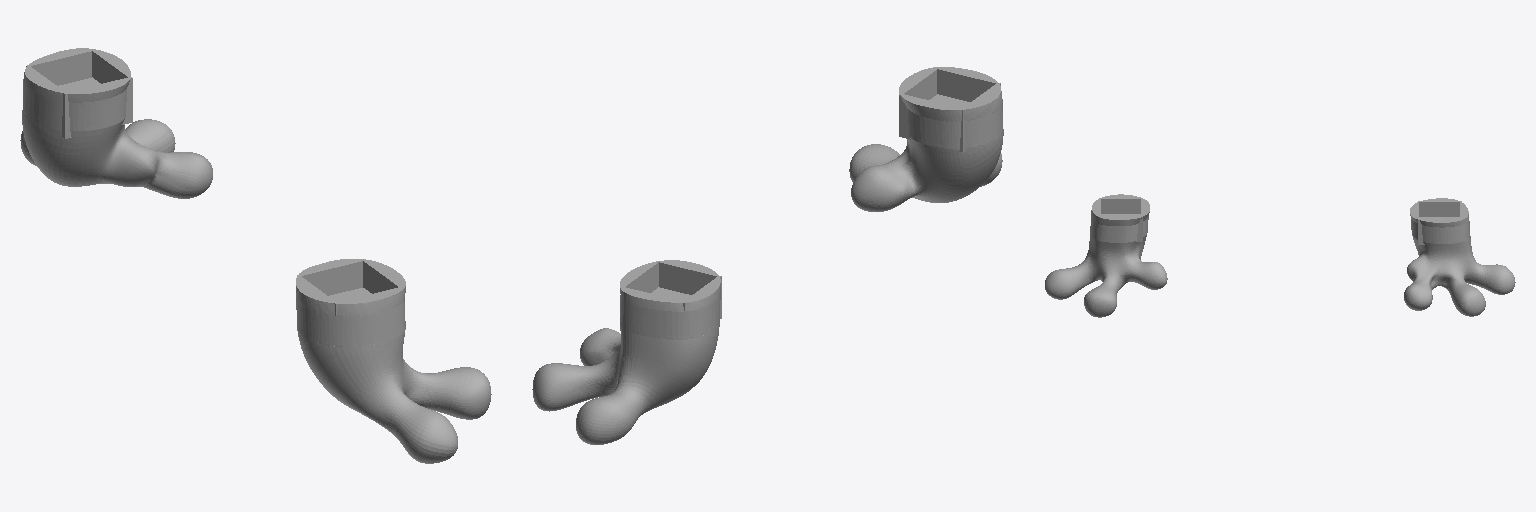
URDF robot description (FrogBot1_top-FrogBot1-x-4_bottom-FrogBot1-x-4):
<?xml version="1.0" ?>
<robot name="FrogBot1_top-FrogBot1-x-4_bottom-FrogBot1-x-4">

<material name="pla_5_percent_infill">
  <color rgba="0.700 0.700 0.700 1.000"/>
</material>

<link name="base_link">
  <inertial>
    <origin xyz="0 0 0" rpy="0 0 0"/>
    <mass value="1.4103143072721238"/>
    <inertia ixx="0.004671865419262023" iyy="0.01102984328633242" izz="0.011972094032648898" ixy="0.00015185420958179873" iyz="8.583160306759328e-05" ixz="-0.0012132770853355082"/>
  </inertial>
  <visual>
    <origin xyz="0 0 0" rpy="0 0 0"/>
    <geometry>
      <mesh filename="simple_meshes/base_link.stl" scale="0.001 0.001 0.001"/>
    </geometry>
    <material name="pla_5_percent_infill"/>
  </visual>
  <collision>
    <origin xyz="0 0 0" rpy="0 0 0"/>
    <geometry>
      <mesh filename="simple_meshes/base_link.stl" scale="0.001 0.001 0.001"/>
    </geometry>
  </collision>
</link>

<link name="body_1_0_1">
  <inertial>
    <origin xyz="-0.045735 -0.109621 -0.00462" rpy="0 0 0"/>
    <mass value="0.03879208926721642"/>
    <inertia ixx="3.793123772816913e-05" iyy="3.979322157933629e-05" izz="1.4336450828997824e-05" ixy="-4.3859643624897995e-07" iyz="2.889189880319427e-06" ixz="5.717862344251724e-07"/>
  </inertial>
  <visual>
    <origin xyz="-0.045735 -0.109621 -0.00462" rpy="0 0 0"/>
    <geometry>
      <mesh filename="simple_meshes/body_1_0_1.stl" scale="0.001 0.001 0.001"/>
    </geometry>
    <material name="pla_5_percent_infill"/>
  </visual>
  <collision>
    <origin xyz="-0.045735 -0.109621 -0.00462" rpy="0 0 0"/>
    <geometry>
      <mesh filename="simple_meshes/body_1_0_1.stl" scale="0.001 0.001 0.001"/>
    </geometry>
  </collision>
</link>

<link name="body_1_1_1">
  <inertial>
    <origin xyz="0.086489 -0.109621 -0.018802" rpy="0 0 0"/>
    <mass value="0.06970153782718615"/>
    <inertia ixx="7.485681053907931e-05" iyy="8.255272871749949e-05" izz="4.113204068544778e-05" ixy="5.961934677416051e-06" iyz="1.285823416582359e-05" ixz="-1.9641305613061995e-05"/>
  </inertial>
  <visual>
    <origin xyz="0.086489 -0.109621 -0.018802" rpy="0 0 0"/>
    <geometry>
      <mesh filename="simple_meshes/body_1_1_1.stl" scale="0.001 0.001 0.001"/>
    </geometry>
    <material name="pla_5_percent_infill"/>
  </visual>
  <collision>
    <origin xyz="0.086489 -0.109621 -0.018802" rpy="0 0 0"/>
    <geometry>
      <mesh filename="simple_meshes/body_1_1_1.stl" scale="0.001 0.001 0.001"/>
    </geometry>
  </collision>
</link>

<link name="body_1_2_1">
  <inertial>
    <origin xyz="-0.040267 0.109621 -0.027764" rpy="0 0 0"/>
    <mass value="0.050469668014060075"/>
    <inertia ixx="7.528927324983235e-05" iyy="7.403062543695226e-05" izz="2.248478083551877e-05" ixy="6.159399996066698e-07" iyz="-1.3278139408470096e-05" ixz="-1.79026243325607e-07"/>
  </inertial>
  <visual>
    <origin xyz="-0.040267 0.109621 -0.027764" rpy="0 0 0"/>
    <geometry>
      <mesh filename="simple_meshes/body_1_2_1.stl" scale="0.001 0.001 0.001"/>
    </geometry>
    <material name="pla_5_percent_infill"/>
  </visual>
  <collision>
    <origin xyz="-0.040267 0.109621 -0.027764" rpy="0 0 0"/>
    <geometry>
      <mesh filename="simple_meshes/body_1_2_1.stl" scale="0.001 0.001 0.001"/>
    </geometry>
  </collision>
</link>

<link name="body_1_3_1">
  <inertial>
    <origin xyz="0.090407 0.109621 -0.022193" rpy="0 0 0"/>
    <mass value="0.07051428562138756"/>
    <inertia ixx="8.234578748951582e-05" iyy="9.212021029979061e-05" izz="4.505565857923716e-05" ixy="-7.343205658714384e-06" iyz="-1.5796759604781198e-05" ixz="-2.375696135519412e-05"/>
  </inertial>
  <visual>
    <origin xyz="0.090407 0.109621 -0.022193" rpy="0 0 0"/>
    <geometry>
      <mesh filename="simple_meshes/body_1_3_1.stl" scale="0.001 0.001 0.001"/>
    </geometry>
    <material name="pla_5_percent_infill"/>
  </visual>
  <collision>
    <origin xyz="0.090407 0.109621 -0.022193" rpy="0 0 0"/>
    <geometry>
      <mesh filename="simple_meshes/body_1_3_1.stl" scale="0.001 0.001 0.001"/>
    </geometry>
  </collision>
</link>

<link name="body_2_0_1">
  <inertial>
    <origin xyz="-0.049562 -0.159797 0.095064" rpy="0 0 0"/>
    <mass value="0.10303976412850015"/>
    <inertia ixx="0.00011780316974623669" iyy="0.0001309551990743697" izz="0.00013742124003981006" ixy="-4.695988367956145e-06" iyz="-9.946031705693019e-07" ixz="3.077147483612525e-05"/>
  </inertial>
  <visual>
    <origin xyz="-0.049562 -0.159797 0.095064" rpy="0 0 0"/>
    <geometry>
      <mesh filename="simple_meshes/body_2_0_1.stl" scale="0.001 0.001 0.001"/>
    </geometry>
    <material name="pla_5_percent_infill"/>
  </visual>
  <collision>
    <origin xyz="-0.049562 -0.159797 0.095064" rpy="0 0 0"/>
    <geometry>
      <mesh filename="simple_meshes/body_2_0_1.stl" scale="0.001 0.001 0.001"/>
    </geometry>
  </collision>
</link>

<link name="body_2_1_1">
  <inertial>
    <origin xyz="0.121182 -0.173952 0.095064" rpy="0 0 0"/>
    <mass value="0.11010765378387201"/>
    <inertia ixx="0.0001253850300086453" iyy="0.0001346070861380248" izz="0.000143945008506648" ixy="-1.5131088088342e-07" iyz="1.829040436844131e-05" ixz="3.634164909816851e-05"/>
  </inertial>
  <visual>
    <origin xyz="0.121182 -0.173952 0.095064" rpy="0 0 0"/>
    <geometry>
      <mesh filename="simple_meshes/body_2_1_1.stl" scale="0.001 0.001 0.001"/>
    </geometry>
    <material name="pla_5_percent_infill"/>
  </visual>
  <collision>
    <origin xyz="0.121182 -0.173952 0.095064" rpy="0 0 0"/>
    <geometry>
      <mesh filename="simple_meshes/body_2_1_1.stl" scale="0.001 0.001 0.001"/>
    </geometry>
  </collision>
</link>

<link name="body_2_2_1">
  <inertial>
    <origin xyz="-0.04311 0.170506 0.095064" rpy="0 0 0"/>
    <mass value="0.1049739427457743"/>
    <inertia ixx="0.00012607278005472792" iyy="0.00012089434645677936" izz="0.0001392166320821264" ixy="1.1985563518274525e-06" iyz="-7.295824618270413e-06" ixz="2.2235790760200382e-05"/>
  </inertial>
  <visual>
    <origin xyz="-0.04311 0.170506 0.095064" rpy="0 0 0"/>
    <geometry>
      <mesh filename="simple_meshes/body_2_2_1.stl" scale="0.001 0.001 0.001"/>
    </geometry>
    <material name="pla_5_percent_infill"/>
  </visual>
  <collision>
    <origin xyz="-0.04311 0.170506 0.095064" rpy="0 0 0"/>
    <geometry>
      <mesh filename="simple_meshes/body_2_2_1.stl" scale="0.001 0.001 0.001"/>
    </geometry>
  </collision>
</link>

<link name="body_2_3_1">
  <inertial>
    <origin xyz="0.129712 0.175384 0.095064" rpy="0 0 0"/>
    <mass value="0.10880476385839909"/>
    <inertia ixx="0.00013398873835935698" iyy="0.00013065003356161915" izz="0.0001344310452533956" ixy="6.674114086635454e-06" iyz="-2.394213149508684e-05" ixz="3.567788191607404e-05"/>
  </inertial>
  <visual>
    <origin xyz="0.129712 0.175384 0.095064" rpy="0 0 0"/>
    <geometry>
      <mesh filename="simple_meshes/body_2_3_1.stl" scale="0.001 0.001 0.001"/>
    </geometry>
    <material name="pla_5_percent_infill"/>
  </visual>
  <collision>
    <origin xyz="0.129712 0.175384 0.095064" rpy="0 0 0"/>
    <geometry>
      <mesh filename="simple_meshes/body_2_3_1.stl" scale="0.001 0.001 0.001"/>
    </geometry>
  </collision>
</link>

<joint name="joint_1_0" type="revolute">
  <origin xyz="0.045735 0.109621 0.00462" rpy="0 0 0"/>
  <parent link="base_link"/>
  <child link="body_1_0_1"/>
  <axis xyz="1.0 0.0 0.0"/>
  <limit upper="1.2" lower="-1.2" effort="3.8" velocity="5.4"/>
</joint>
<transmission name="joint_1_0_tran">
  <type>transmission_interface/SimpleTransmission</type>
  <joint name="joint_1_0">
    <hardwareInterface>PositionJointInterface</hardwareInterface>
  </joint>
  <actuator name="joint_1_0_actr">
    <hardwareInterface>PositionJointInterface</hardwareInterface>
    <mechanicalReduction>1</mechanicalReduction>
  </actuator>
</transmission>

<joint name="joint_1_1" type="revolute">
  <origin xyz="-0.086489 0.109621 0.018802" rpy="0 0 0"/>
  <parent link="base_link"/>
  <child link="body_1_1_1"/>
  <axis xyz="1.0 0.0 0.0"/>
  <limit upper="1.2" lower="-1.2" effort="3.8" velocity="5.4"/>
</joint>
<transmission name="joint_1_1_tran">
  <type>transmission_interface/SimpleTransmission</type>
  <joint name="joint_1_1">
    <hardwareInterface>PositionJointInterface</hardwareInterface>
  </joint>
  <actuator name="joint_1_1_actr">
    <hardwareInterface>PositionJointInterface</hardwareInterface>
    <mechanicalReduction>1</mechanicalReduction>
  </actuator>
</transmission>

<joint name="joint_1_2" type="revolute">
  <origin xyz="0.040267 -0.109621 0.027764" rpy="0 0 0"/>
  <parent link="base_link"/>
  <child link="body_1_2_1"/>
  <axis xyz="1.0 0.0 0.0"/>
  <limit upper="1.2" lower="-1.2" effort="3.8" velocity="5.4"/>
</joint>
<transmission name="joint_1_2_tran">
  <type>transmission_interface/SimpleTransmission</type>
  <joint name="joint_1_2">
    <hardwareInterface>PositionJointInterface</hardwareInterface>
  </joint>
  <actuator name="joint_1_2_actr">
    <hardwareInterface>PositionJointInterface</hardwareInterface>
    <mechanicalReduction>1</mechanicalReduction>
  </actuator>
</transmission>

<joint name="joint_1_3" type="revolute">
  <origin xyz="-0.090407 -0.109621 0.022193" rpy="0 0 0"/>
  <parent link="base_link"/>
  <child link="body_1_3_1"/>
  <axis xyz="1.0 0.0 0.0"/>
  <limit upper="1.2" lower="-1.2" effort="3.8" velocity="5.4"/>
</joint>
<transmission name="joint_1_3_tran">
  <type>transmission_interface/SimpleTransmission</type>
  <joint name="joint_1_3">
    <hardwareInterface>PositionJointInterface</hardwareInterface>
  </joint>
  <actuator name="joint_1_3_actr">
    <hardwareInterface>PositionJointInterface</hardwareInterface>
    <mechanicalReduction>1</mechanicalReduction>
  </actuator>
</transmission>

<joint name="joint_2_0" type="revolute">
  <origin xyz="0.003827 0.050176 -0.099684" rpy="0 0 0"/>
  <parent link="body_1_0_1"/>
  <child link="body_2_0_1"/>
  <axis xyz="1.0 0.0 0.0"/>
  <limit upper="1.2" lower="-1.2" effort="3.8" velocity="5.4"/>
</joint>
<transmission name="joint_2_0_tran">
  <type>transmission_interface/SimpleTransmission</type>
  <joint name="joint_2_0">
    <hardwareInterface>PositionJointInterface</hardwareInterface>
  </joint>
  <actuator name="joint_2_0_actr">
    <hardwareInterface>PositionJointInterface</hardwareInterface>
    <mechanicalReduction>1</mechanicalReduction>
  </actuator>
</transmission>

<joint name="joint_2_1" type="revolute">
  <origin xyz="-0.034693 0.064331 -0.113866" rpy="0 0 0"/>
  <parent link="body_1_1_1"/>
  <child link="body_2_1_1"/>
  <axis xyz="1.0 0.0 0.0"/>
  <limit upper="1.2" lower="-1.2" effort="3.8" velocity="5.4"/>
</joint>
<transmission name="joint_2_1_tran">
  <type>transmission_interface/SimpleTransmission</type>
  <joint name="joint_2_1">
    <hardwareInterface>PositionJointInterface</hardwareInterface>
  </joint>
  <actuator name="joint_2_1_actr">
    <hardwareInterface>PositionJointInterface</hardwareInterface>
    <mechanicalReduction>1</mechanicalReduction>
  </actuator>
</transmission>

<joint name="joint_2_2" type="revolute">
  <origin xyz="0.002843 -0.060885 -0.122828" rpy="0 0 0"/>
  <parent link="body_1_2_1"/>
  <child link="body_2_2_1"/>
  <axis xyz="1.0 0.0 0.0"/>
  <limit upper="1.2" lower="-1.2" effort="3.8" velocity="5.4"/>
</joint>
<transmission name="joint_2_2_tran">
  <type>transmission_interface/SimpleTransmission</type>
  <joint name="joint_2_2">
    <hardwareInterface>PositionJointInterface</hardwareInterface>
  </joint>
  <actuator name="joint_2_2_actr">
    <hardwareInterface>PositionJointInterface</hardwareInterface>
    <mechanicalReduction>1</mechanicalReduction>
  </actuator>
</transmission>

<joint name="joint_2_3" type="revolute">
  <origin xyz="-0.039305 -0.065763 -0.117257" rpy="0 0 0"/>
  <parent link="body_1_3_1"/>
  <child link="body_2_3_1"/>
  <axis xyz="1.0 0.0 0.0"/>
  <limit upper="1.2" lower="-1.2" effort="3.8" velocity="5.4"/>
</joint>
<transmission name="joint_2_3_tran">
  <type>transmission_interface/SimpleTransmission</type>
  <joint name="joint_2_3">
    <hardwareInterface>PositionJointInterface</hardwareInterface>
  </joint>
  <actuator name="joint_2_3_actr">
    <hardwareInterface>PositionJointInterface</hardwareInterface>
    <mechanicalReduction>1</mechanicalReduction>
  </actuator>
</transmission>

</robot>

--- Facts derived from the render (not from the file) ---
The picture shows the robot from 3 angles, left to right: view 1: azimuth 30°, elevation 25°; view 2: azimuth 150°, elevation 25°; view 3: azimuth 270°, elevation 25°; orthographic projection.
Model FrogBot1_top-FrogBot1-x-4_bottom-FrogBot1-x-4 with 9 links and 8 joints (8 revolute), rooted at base_link, posed every joint at zero.
Links seen in each view (by area): view 1: body_2_3_1, body_2_1_1; view 2: body_2_1_1, body_2_3_1; view 3: body_2_1_1, body_2_3_1.
Boxes of the visible links, bbox=[...] form: body_2_3_1: bbox=[296, 259, 491, 463]; body_2_1_1: bbox=[20, 48, 212, 198]; body_2_1_1: bbox=[532, 260, 721, 444]; body_2_3_1: bbox=[849, 67, 1003, 211]; body_2_1_1: bbox=[1404, 198, 1515, 316]; body_2_3_1: bbox=[1045, 194, 1167, 317].
Bounding box of the posed robot: 0.1277 × 0.5165 × 0.1002 m (x, y, z).
2 mesh visuals loaded from 9 distinct referenced files (2 binary STL); not drawn: 7 (reference not matched to a file when rendering).